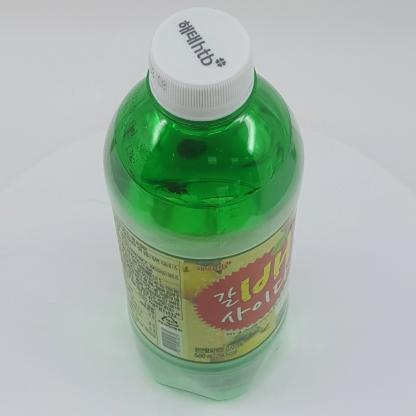-------500ML: (103, 7, 305, 400)
